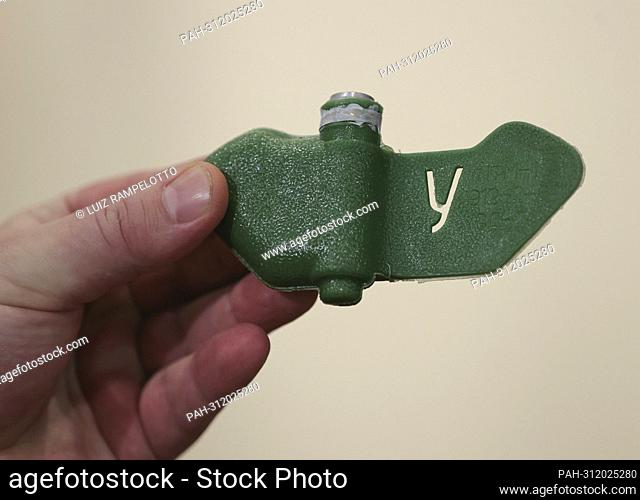butterfly: (195, 84, 595, 317)
